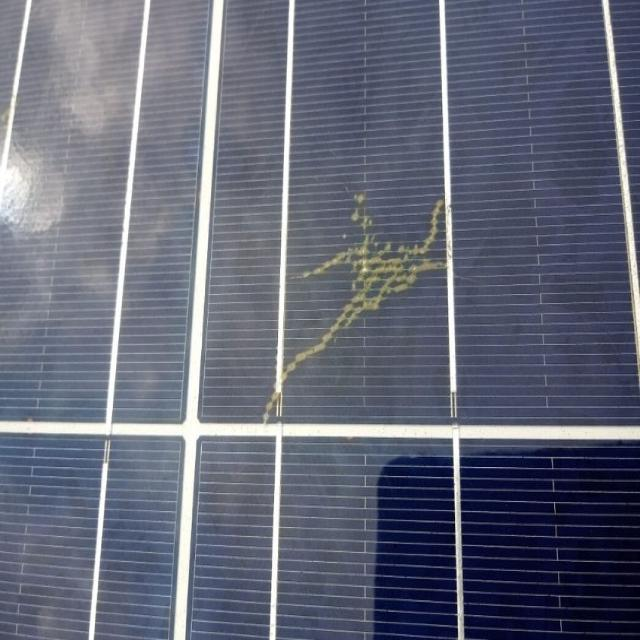Electrical-damage: (247, 184, 452, 431)
